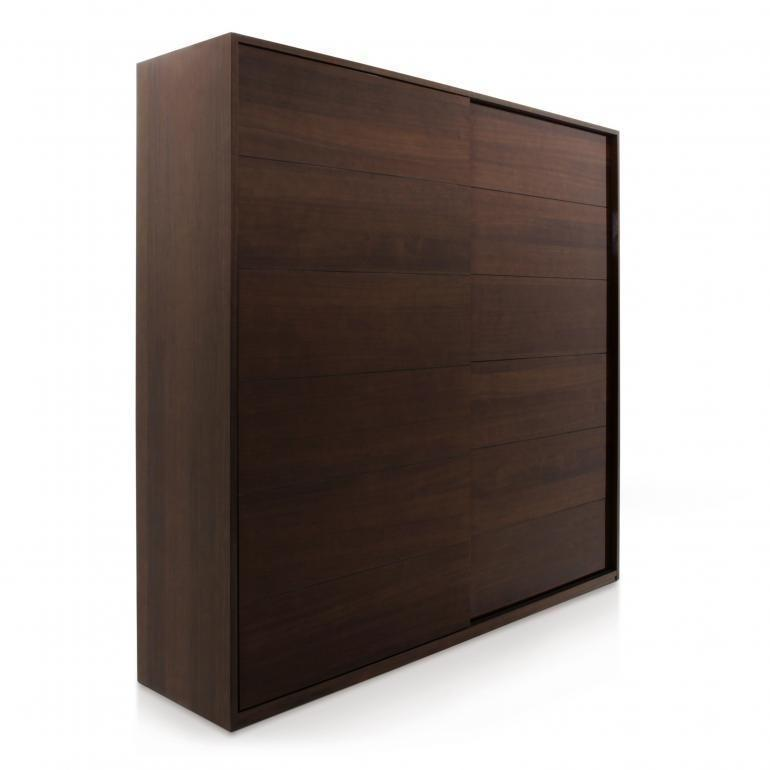Armario: (119, 32, 624, 736)
